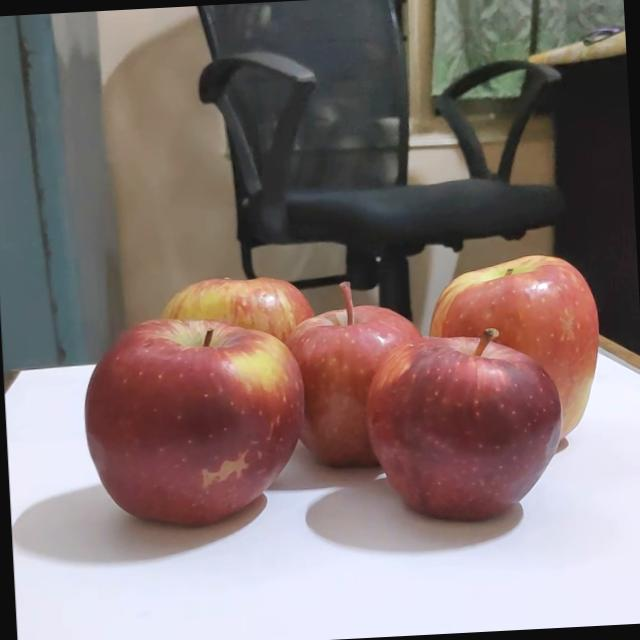apple: (120, 308, 360, 531), (410, 326, 614, 518), (299, 275, 460, 470), (448, 250, 624, 413), (165, 268, 342, 402)
